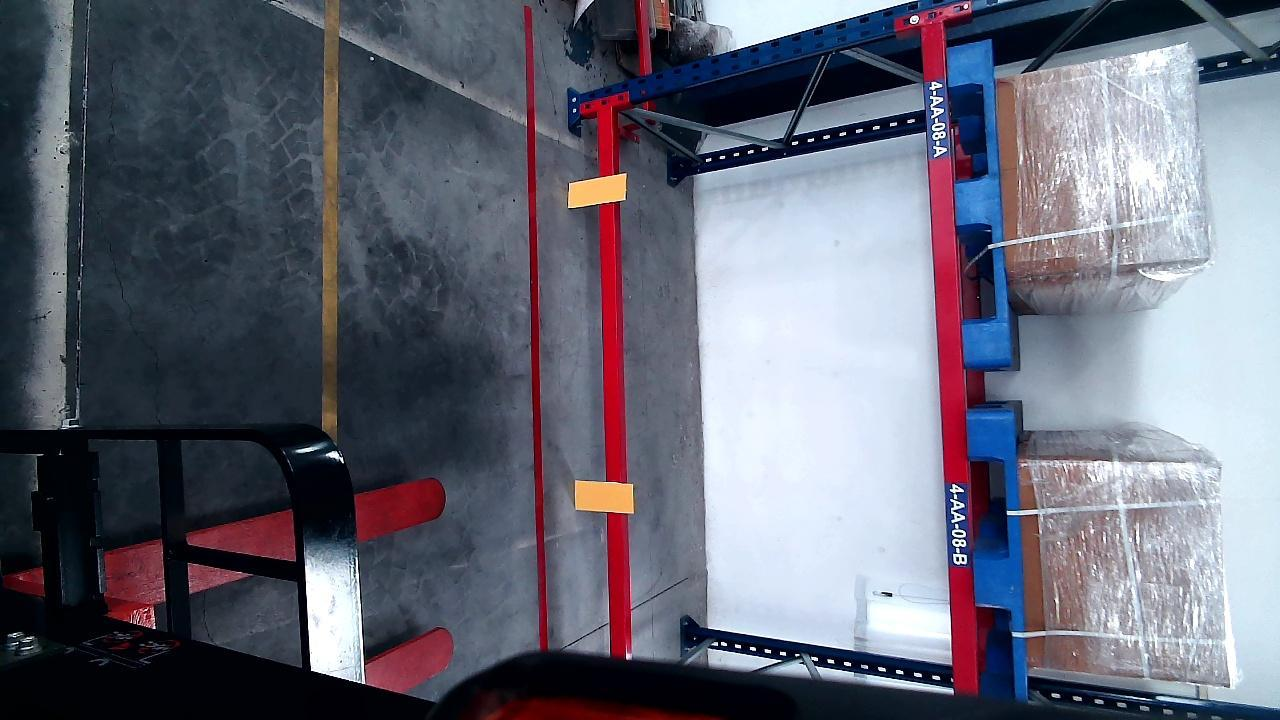red_line: (518, 0, 548, 650)
yellow_line: (318, 6, 342, 422)
